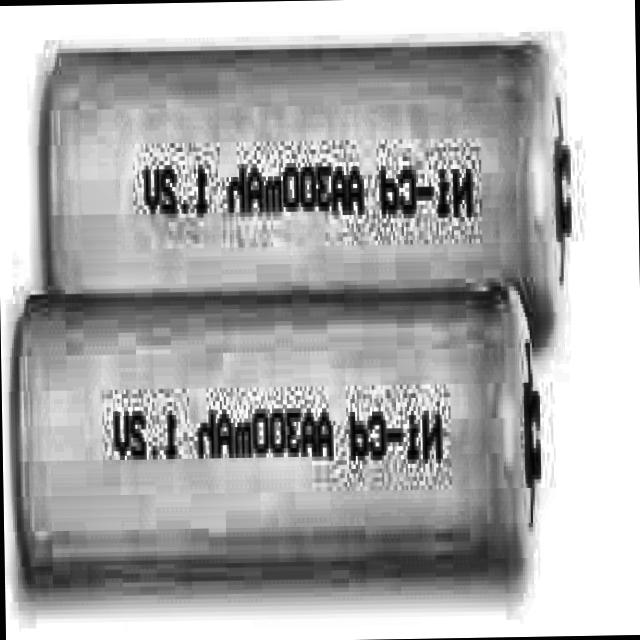Battery: (14, 290, 540, 593), (48, 39, 570, 324)
